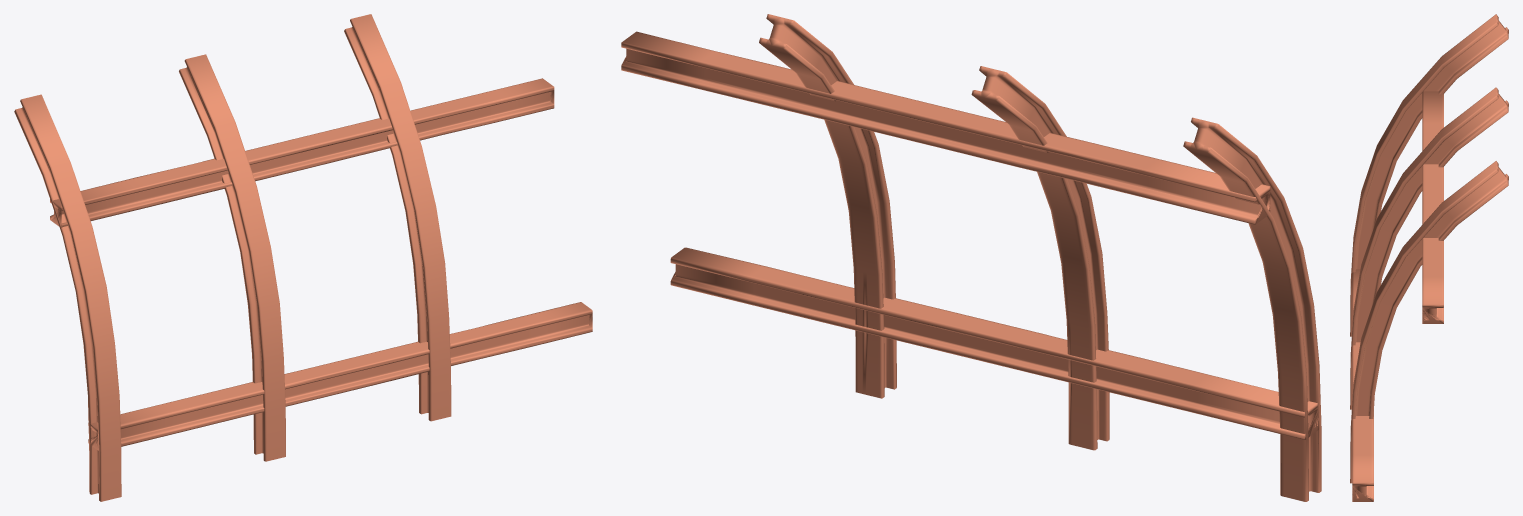
The model's file is Industrial_New_Arch_Left_Empty_End.fbx.
3 renders of one model, left to right at view 1: azimuth 30°, elevation 25°; view 2: azimuth 150°, elevation 25°; view 3: azimuth 270°, elevation 25°, orthographic. The views are drawn at different scales.
Parts seen in each view (by area): view 1: NurbsPath.032; view 2: NurbsPath.032; view 3: NurbsPath.032.
Boxes of the visible parts, x1=… form: NurbsPath.032: x1=14, y1=14, x2=592, y2=501; NurbsPath.032: x1=621, y1=14, x2=1321, y2=501; NurbsPath.032: x1=1350, y1=14, x2=1508, y2=501.
Bounding box in the file's own units: 600 × 400 × 183.
